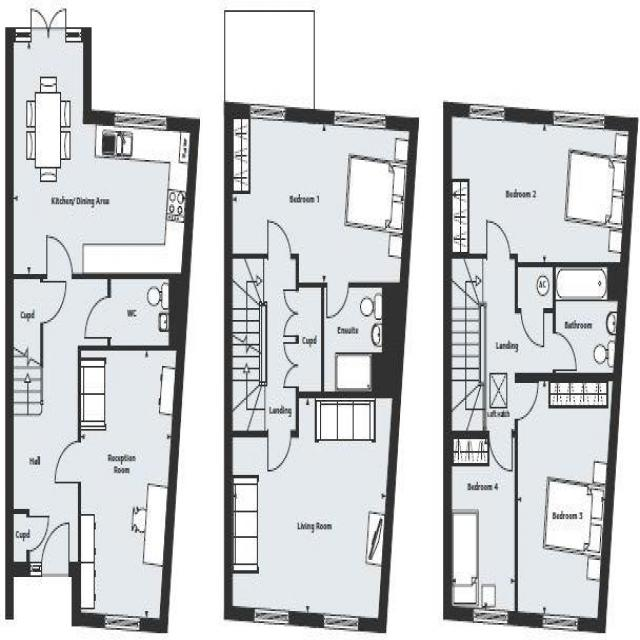DOOR: (41, 520, 70, 577), (45, 234, 73, 280), (54, 440, 81, 485), (488, 429, 514, 474), (266, 429, 292, 473), (515, 380, 540, 422), (486, 219, 511, 260), (553, 330, 577, 372), (267, 219, 292, 259), (325, 282, 350, 320)
DOUBLE DOOR: (30, 7, 67, 43)
ROOM: (5, 7, 201, 280), (224, 391, 402, 634), (224, 101, 420, 321), (54, 345, 186, 634), (443, 101, 638, 267), (515, 372, 622, 634), (443, 430, 518, 627)
WINDOW: (332, 109, 387, 130), (113, 111, 168, 132), (552, 110, 606, 131), (322, 611, 360, 633), (249, 102, 288, 123), (542, 612, 580, 632), (468, 103, 506, 123), (252, 606, 290, 626), (472, 606, 509, 626), (104, 612, 141, 632)
